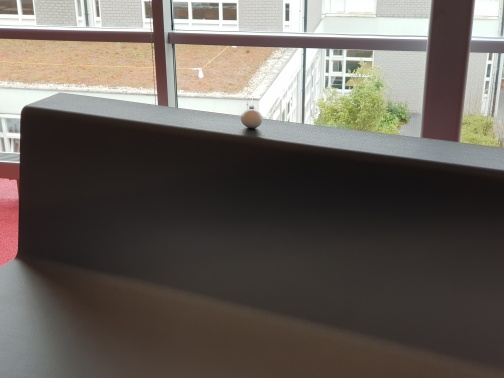egg: (239, 108, 266, 130)
